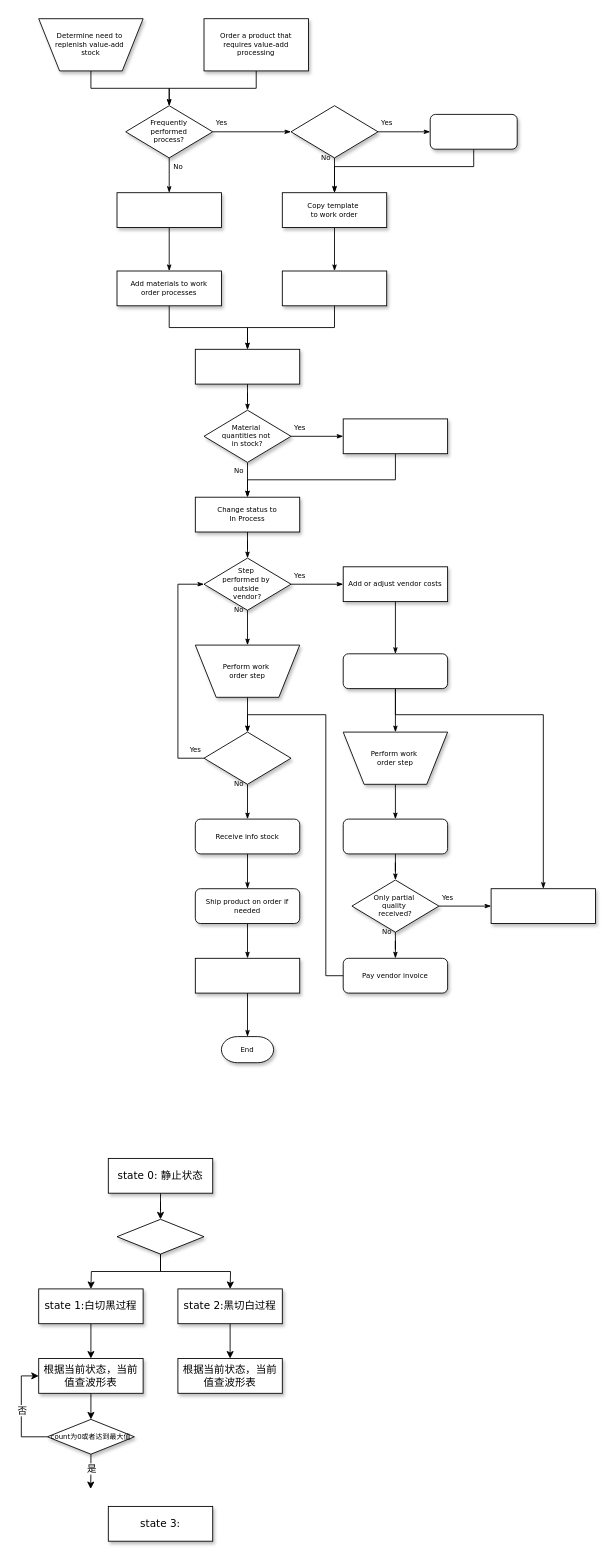
This 616x1563 diagram has some shape labels left out. Each missing label, with the centre of its shape:
Additional processing required?: [248,759]
Adjust material quantities if needed: [335,289]
Change status to Complete: [248,976]
Create a work order: [170,211]
Create work order backorder: [544,907]
Create work order template: [474,132]
cur != pre: [161,1237]
Monitor work orders: [248,367]
New template needed?: [335,132]
Procedure or transfer materials: [396,437]
Receive product from vendor: [396,837]
Ship materials to vendor: [396,672]
